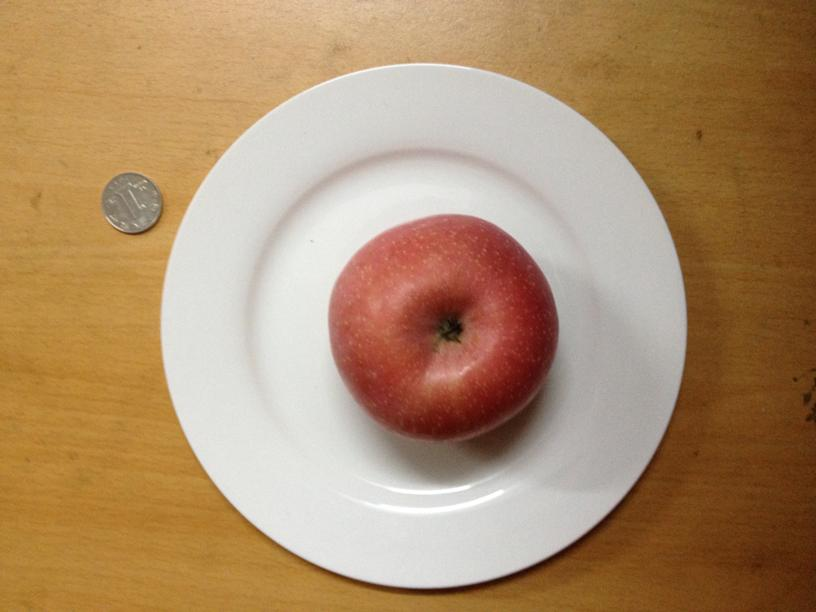apple: (326, 214, 557, 440)
coin: (99, 173, 162, 233)
